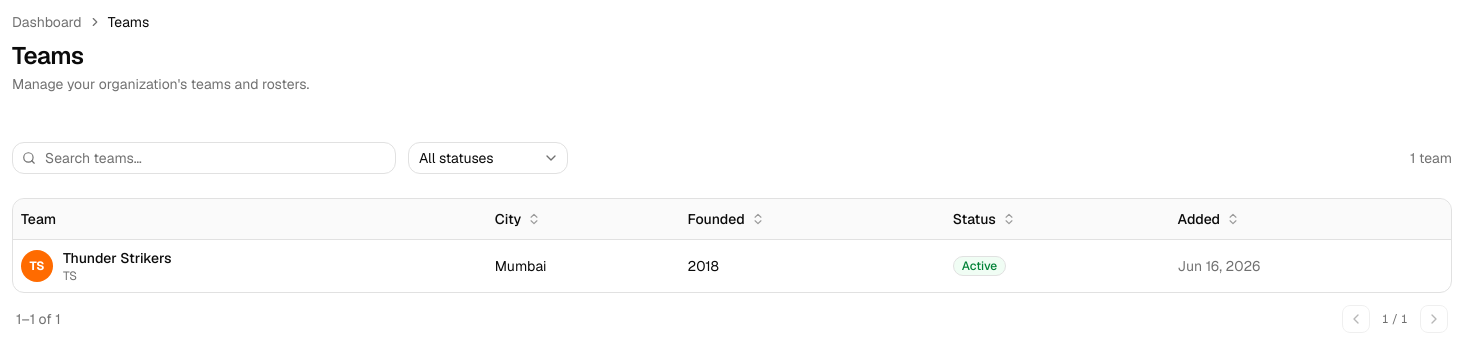
TeamsPage — clear filters › shows Clear button when user types in search input
The image size is (1464, 350).
Expected: the text "Thunder Strikers" is shown, [63, 248, 171, 268]
Expected: the button "clear" is not shown
Type into search — this sets localSearch which drives hasFilters
In the field labelled "Search teams…": (204, 158) [12, 142, 396, 174], type "t"
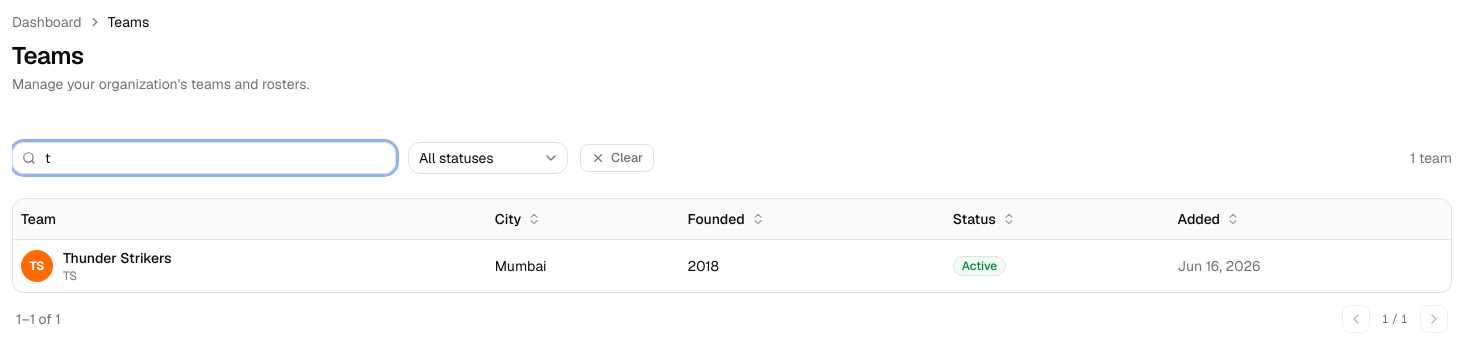
Result: the button "Clear" is shown at [580, 144, 654, 172]
